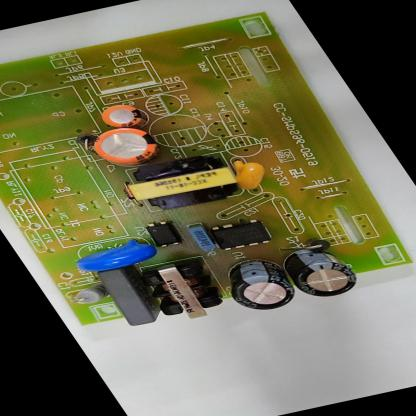Cap1: (78, 121, 170, 176)
Cap2: (93, 100, 150, 131)
Cap3: (210, 252, 308, 317)
Cap4: (273, 239, 371, 304)
MOSFET: (203, 215, 278, 254)
Mov: (62, 233, 165, 278)
Resistor: (62, 281, 113, 308)
Transformer: (119, 148, 253, 217), (128, 256, 241, 328)
